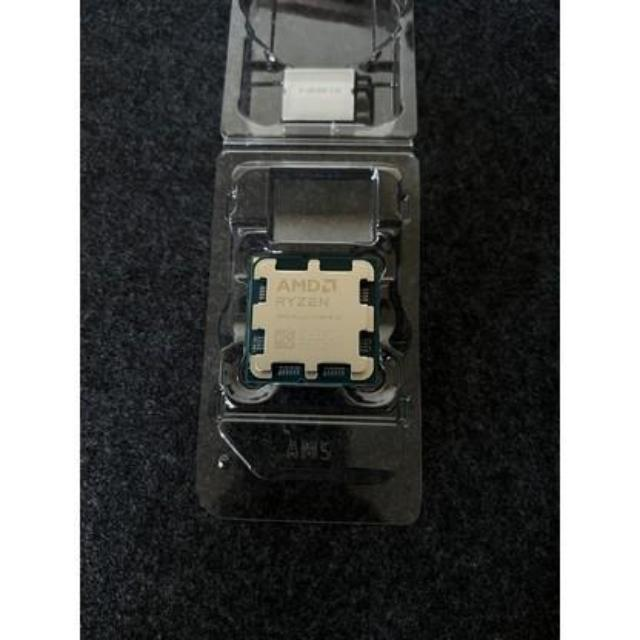CPU: (248, 254, 378, 392)
